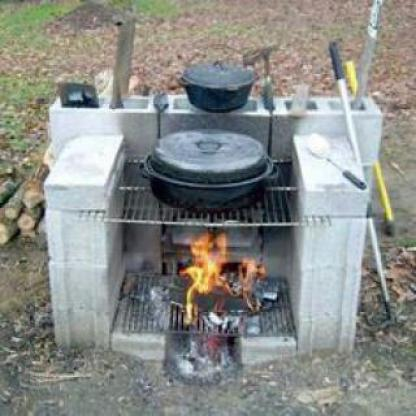Fire: (180, 228, 274, 321)
